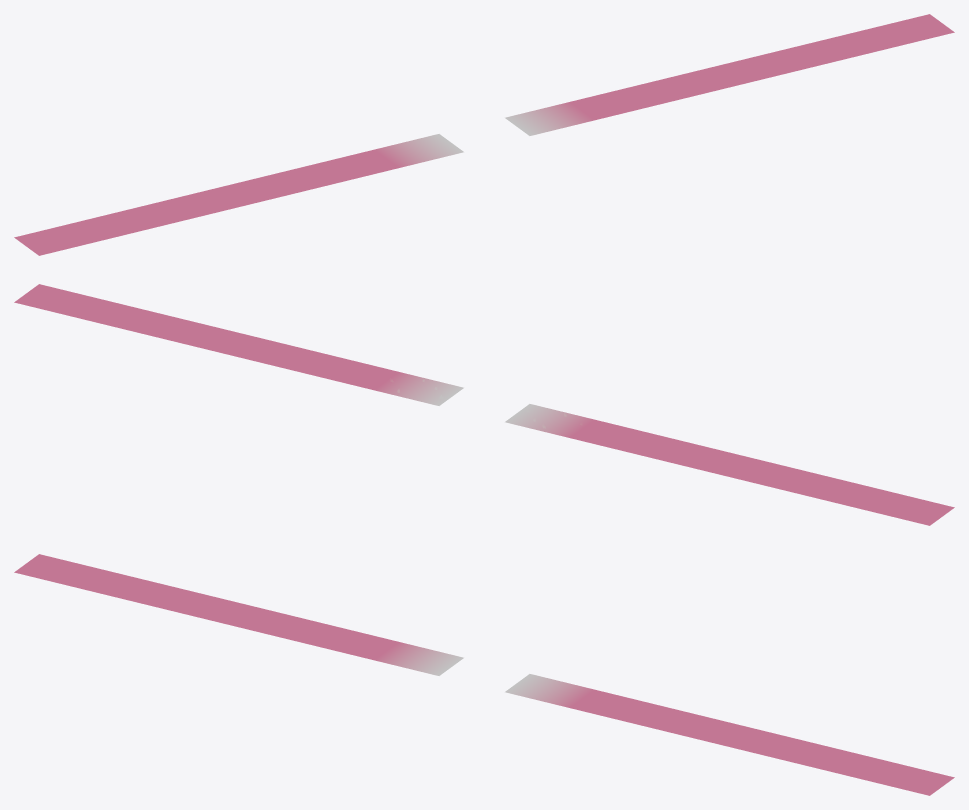
The model's file is Side-forest_Flat.glb.
3 renders of one model, top to bottom at view 1: azimuth 30°, elevation 25°; view 2: azimuth 150°, elevation 25°; view 3: azimuth 330°, elevation 25°, orthographic.
Visible parts, largest first — view 1: Side-forest_Flat; view 2: Side-forest_Flat; view 3: Side-forest_Flat.
Boxes of the visible parts, box(x1,y1,x2,y2) form: Side-forest_Flat: box(14, 14, 954, 255); Side-forest_Flat: box(14, 284, 954, 525); Side-forest_Flat: box(14, 554, 954, 795).
Bounding box in the file's own units: 126 × 0.7778 × 6.
